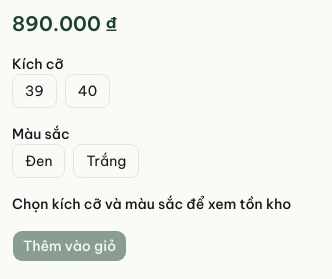
Test: VariantSelector › tổ hợp size+màu không tồn tại variant nào → không crash, báo không có lựa chọn
This screenshot has width=332, height=279.
# size 40 chỉ tồn tại với màu Trắng, không có 40/Đen.
Click the radio button labelled "40".
click(88, 91)  # box [65, 74, 110, 108]
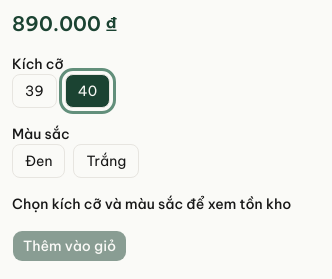
Click the radio button labelled "Đen".
click(39, 161)  # box [12, 144, 66, 178]
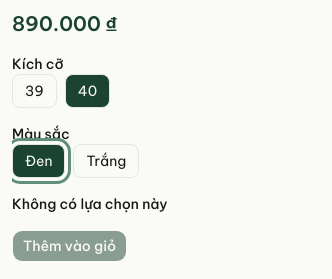
Expected: the button "Thêm vào giỏ" is disabled, [12, 230, 127, 262]
Expected: the text "Không có lựa chọn này" is shown, [12, 195, 168, 213]
